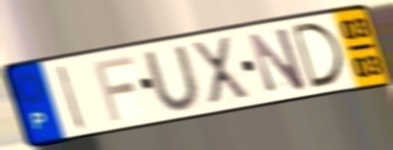D: (289, 20, 346, 91)
F: (91, 53, 136, 124)
I: (55, 62, 87, 133)
N: (246, 24, 309, 95)
U: (141, 43, 205, 113)
X: (189, 34, 254, 107)
